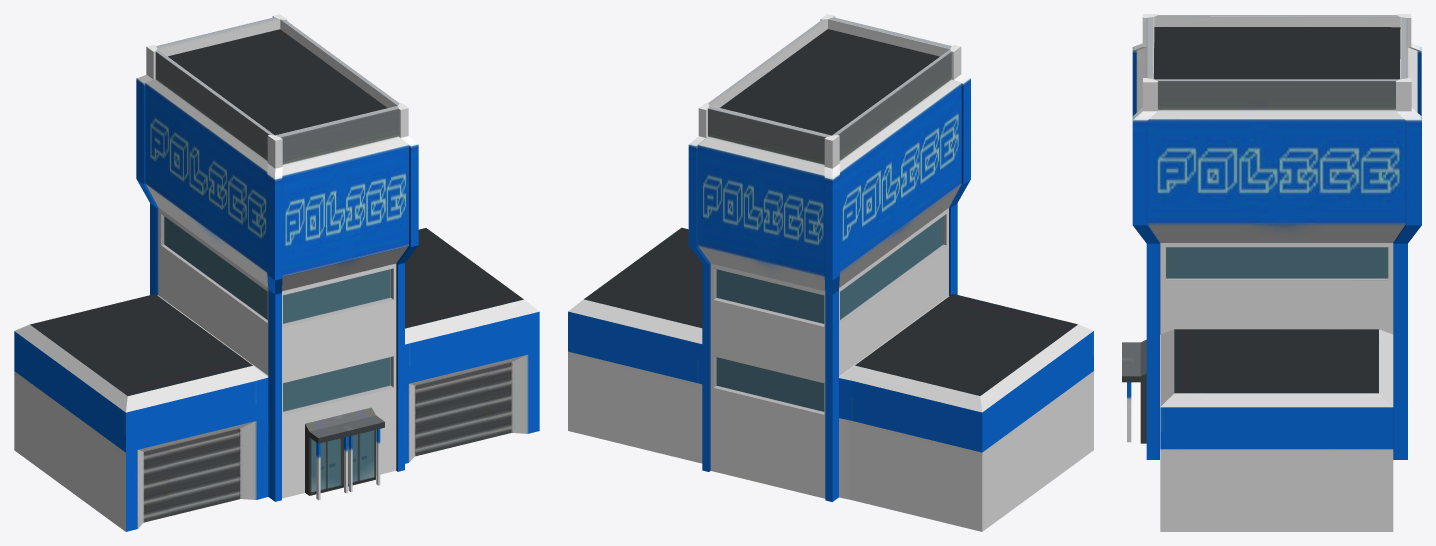
The model's file is publicservice_3.glb.
3 views of the same model, side by side, from view 1: azimuth 30°, elevation 25°; view 2: azimuth 150°, elevation 25°; view 3: azimuth 270°, elevation 25° (orthographic). The views are drawn at different scales.
Visible parts, largest first — view 1: Police Station; view 2: Police Station; view 3: Police Station.
Part boxes in pixels (box(x1,y1,x2,y2)): Police Station: box(14, 14, 539, 531); Police Station: box(568, 14, 1093, 531); Police Station: box(1122, 14, 1421, 531).
Size of the model in its own units: 0.9822 by 0.8229 by 0.5899.
Materials: 1 (1 with a texture image).
